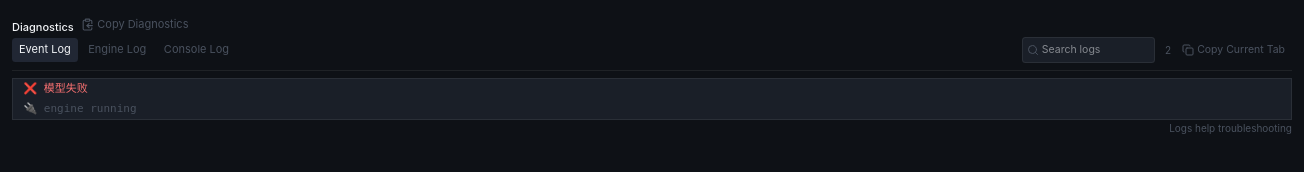
Test: DiagnosticsModal 组件 › 日志搜索：事件日志页过滤 + 无匹配空态（v1.2）
This screenshot has width=1304, height=172.
In the field with class "diag-search-input": (1088, 50) [1022,37,1154,63], type "模型"
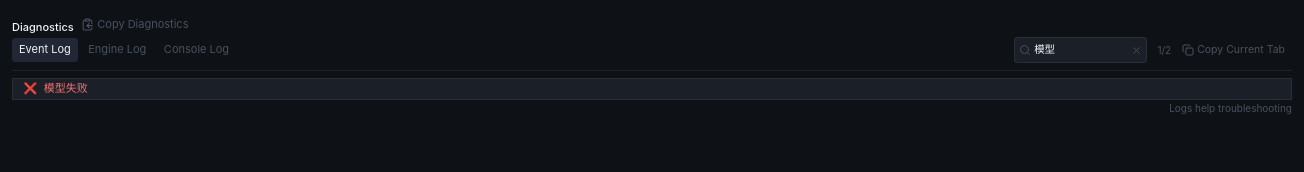
Expected: the number of elements with class "diag-log-line" is 1, [24,82,88,95]
无匹配 → 空态文案
Replace the text in the field with class "diag-search-input" with "zzz-nonexistent": (1080, 50) [1014,37,1147,63]
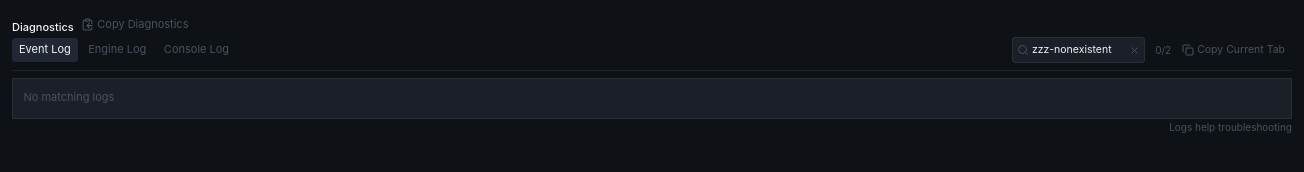
Expected: the text "No matching logs" is shown, [24,90,114,104]
